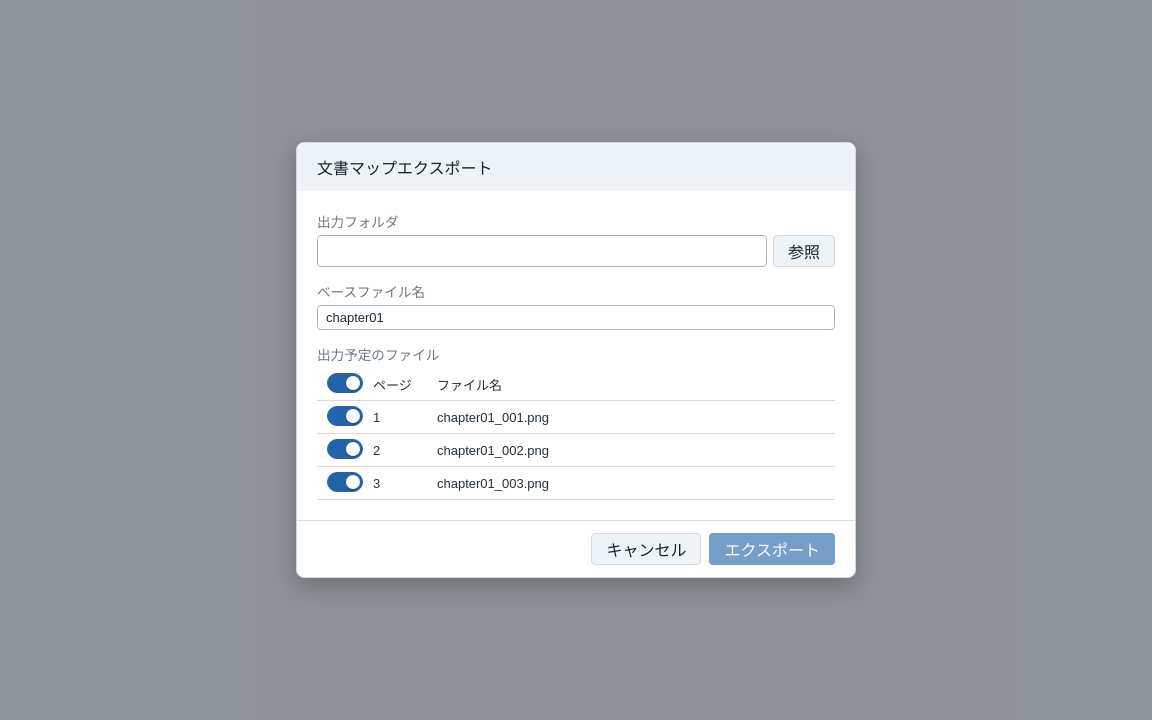
Test: DocumentMapPngExportDialog (#537) › checks existence and writes only output-enabled rows, then reports success
This screenshot has width=1152, height=720.
Click the button "参照": (804, 251) [773,235,835,267]
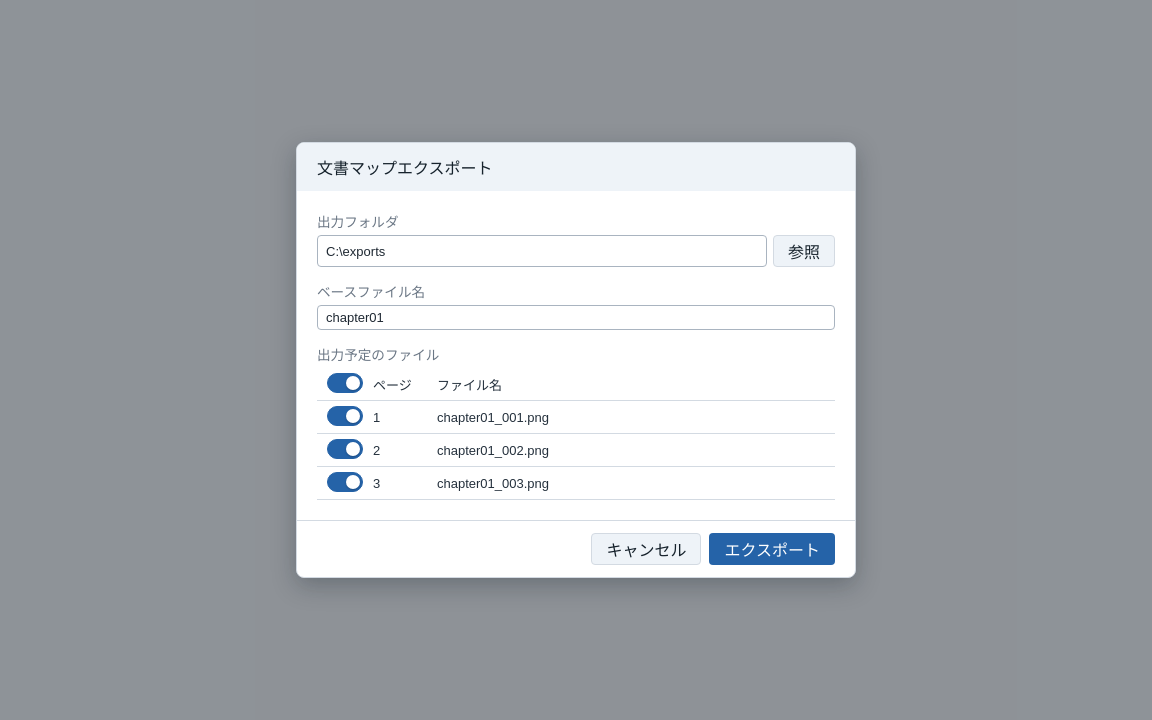
Click the checkbox named "ページ2の出力を切り替え": (345, 449) [325,438,365,460]
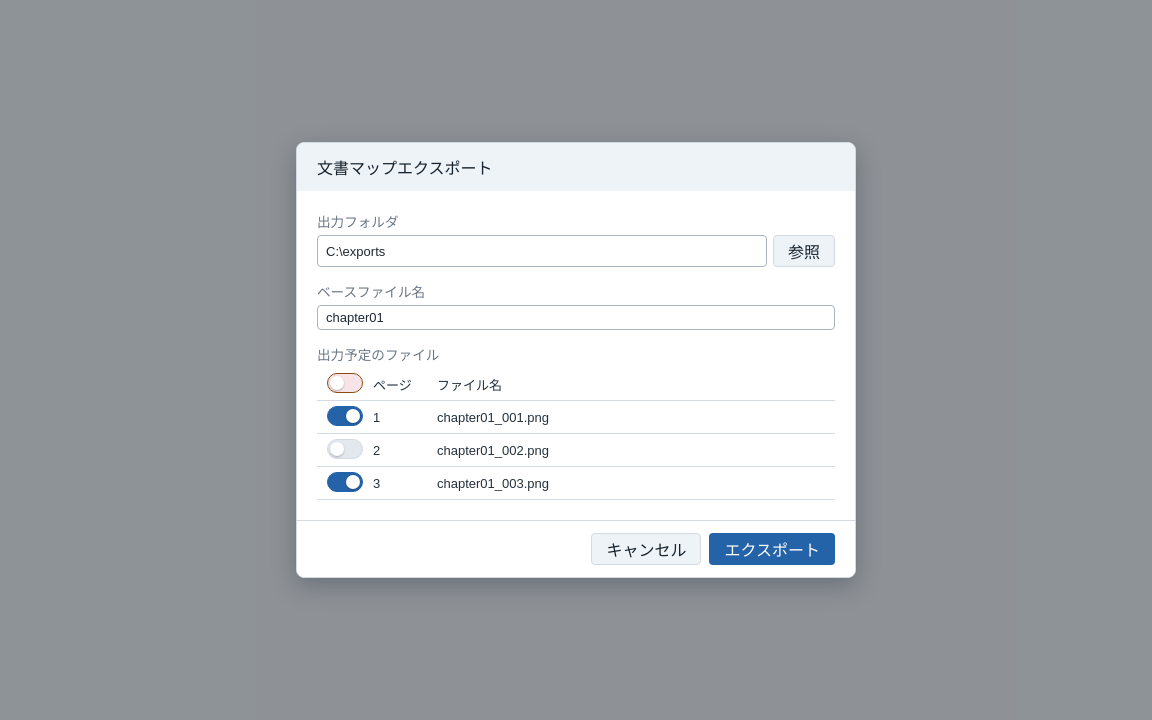
Click the button "エクスポート": (772, 549) [710,533,835,565]
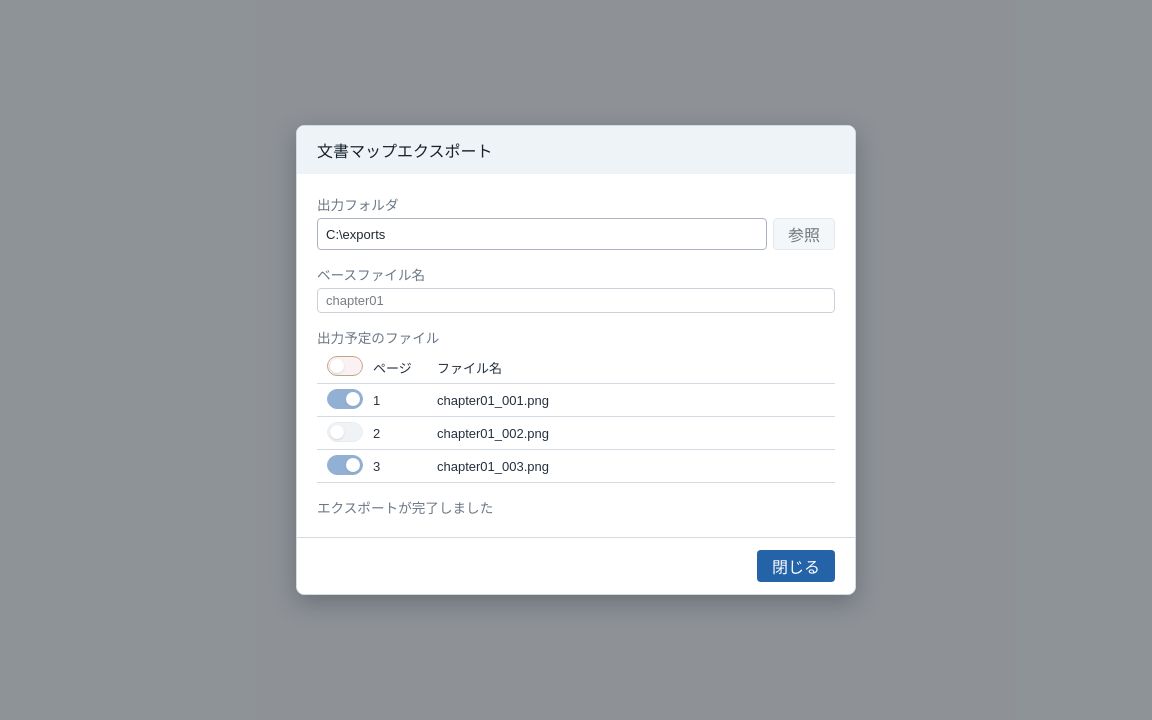
expect the button "閉じる" is shown: met, box [757,550,835,582]
expect the field labelled "ベースファイル名" is disabled: met, box [317,288,835,313]
